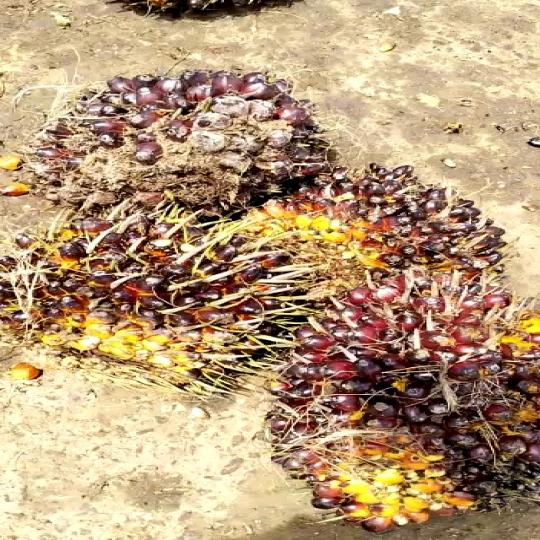kurang masak: (244, 261, 540, 532), (1, 199, 308, 411), (205, 160, 520, 314), (44, 70, 309, 218)
